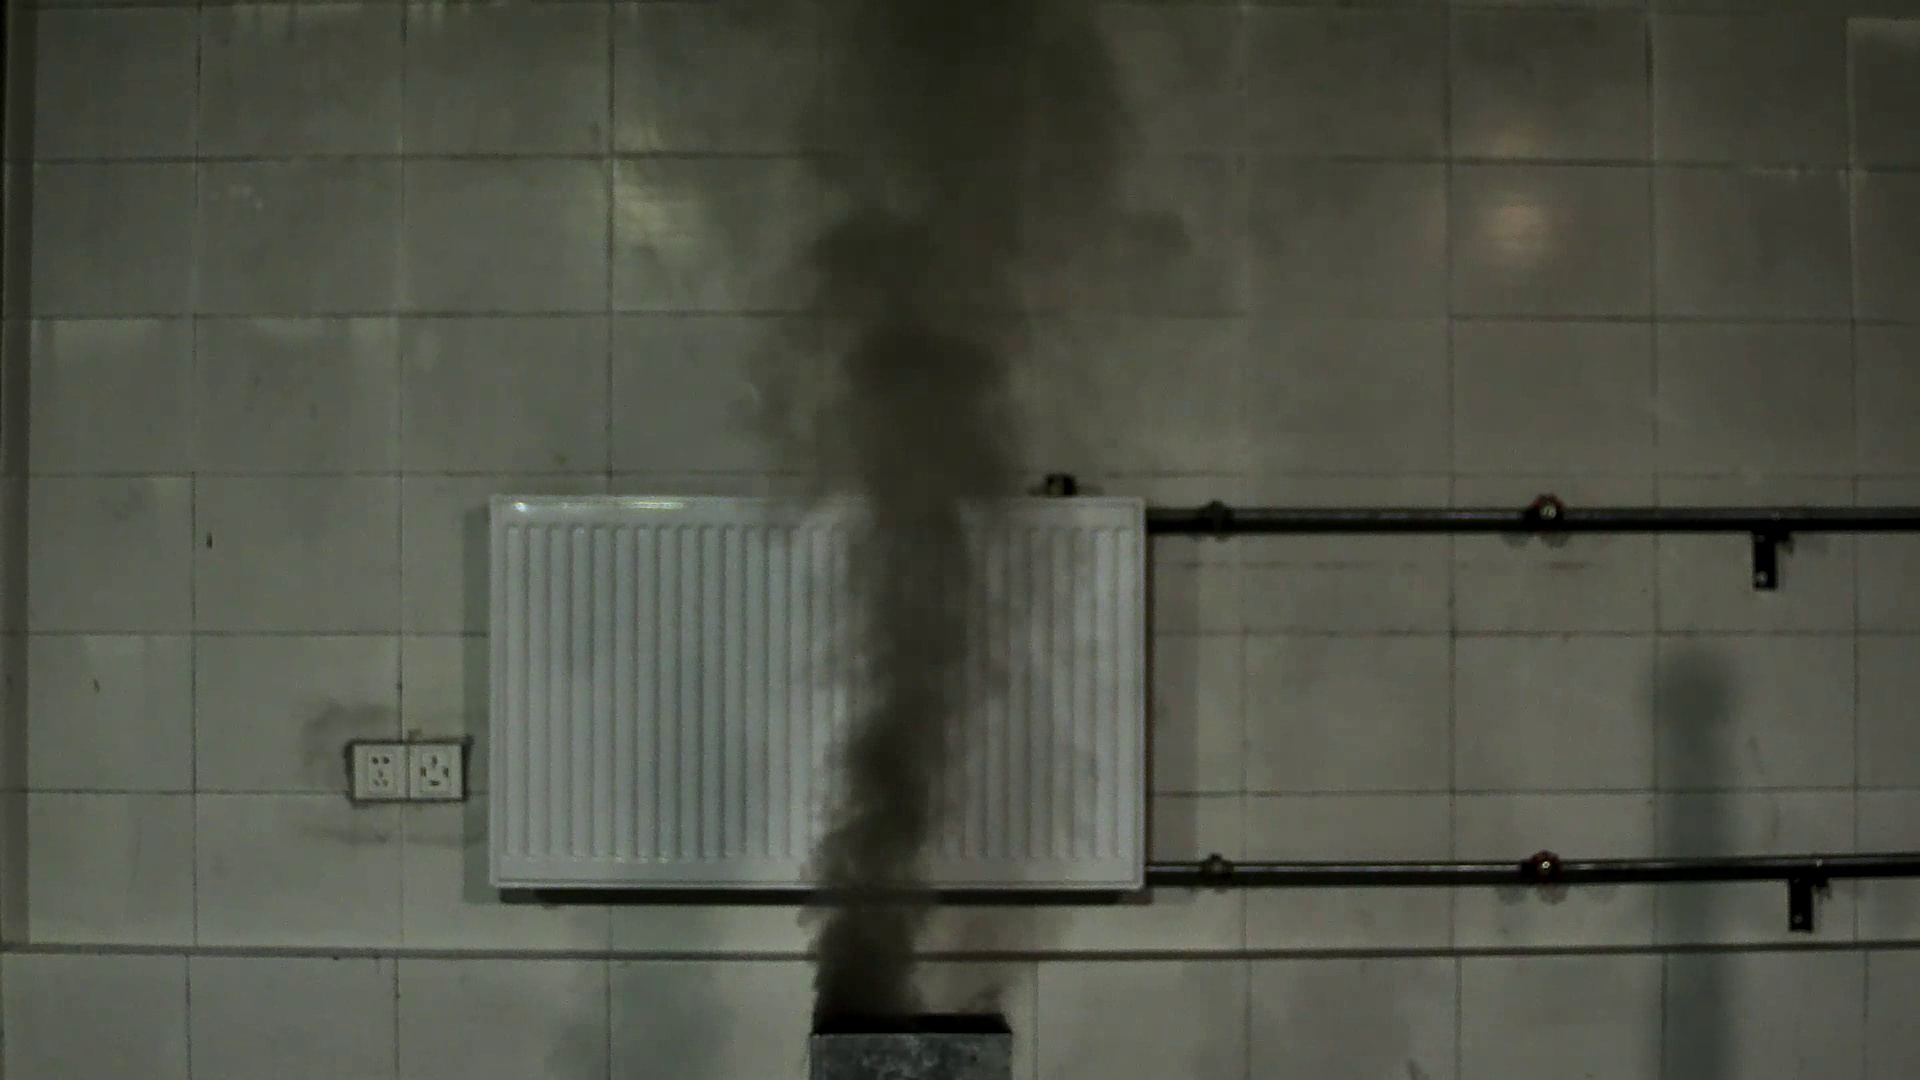smoke: (738, 224, 1075, 1009)
